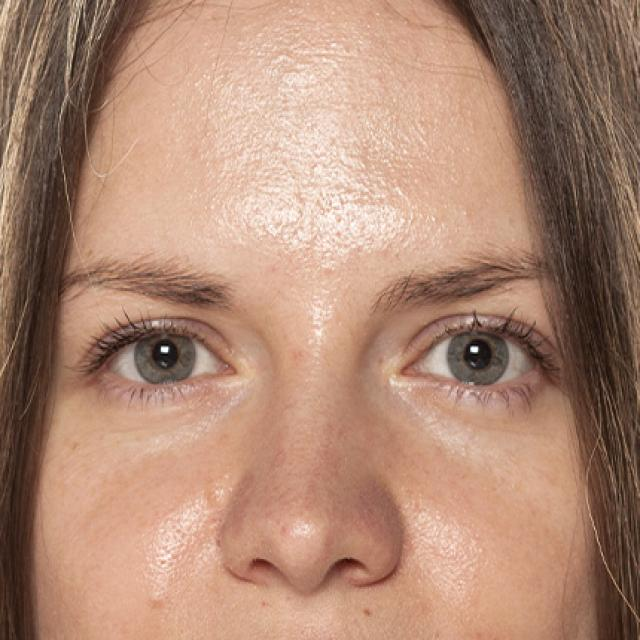Oily-Skin: (179, 25, 418, 242), (397, 436, 574, 640), (86, 447, 198, 576)
